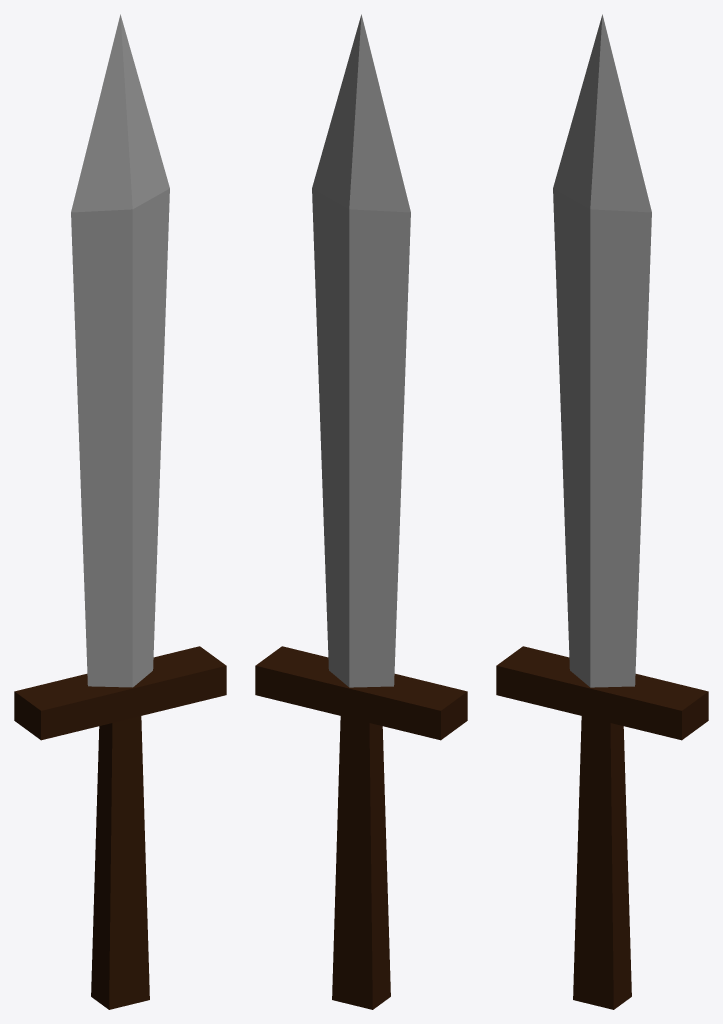
Rendered from Sword1.fbx.
3 renders of one model, left to right at view 1: azimuth 30°, elevation 25°; view 2: azimuth 150°, elevation 25°; view 3: azimuth 330°, elevation 25°, orthographic.
Parts seen in each view (by area): view 1: Sword1; view 2: Sword1; view 3: Sword1.
Boxes of the visible parts, left/top/right/bottom form: Sword1: left=14, top=14, right=226, bottom=1009; Sword1: left=255, top=14, right=467, bottom=1009; Sword1: left=496, top=14, right=708, bottom=1009.
Size of the model in its own units: 0.1974 by 1 by 0.0491.
